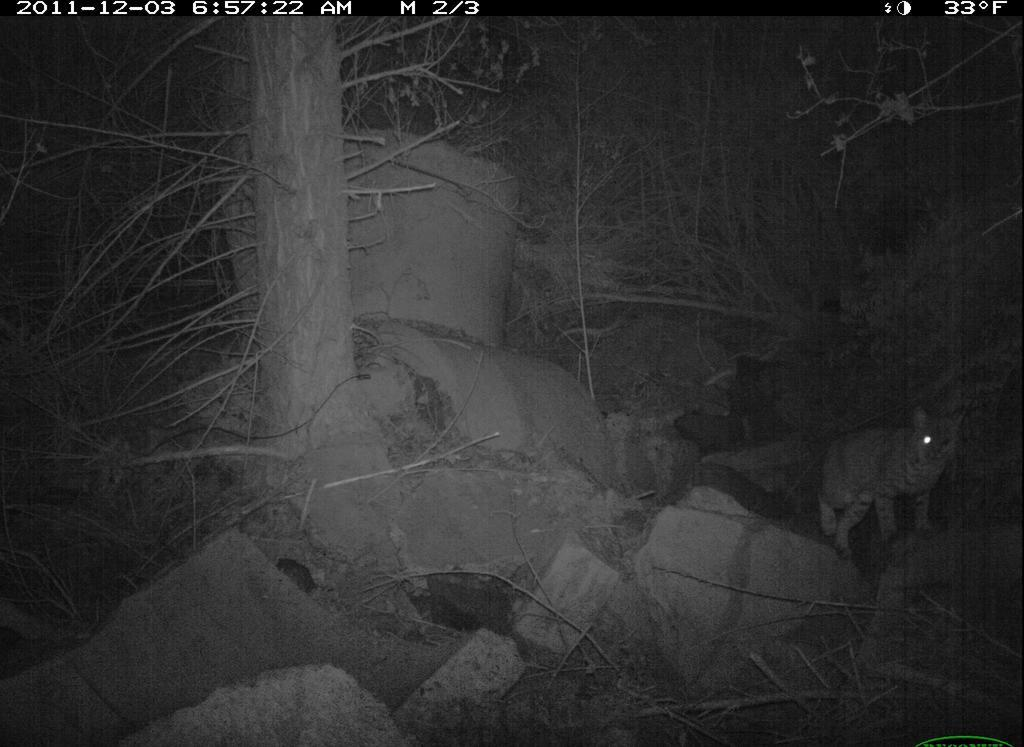bobcat: (811, 401, 975, 560)
